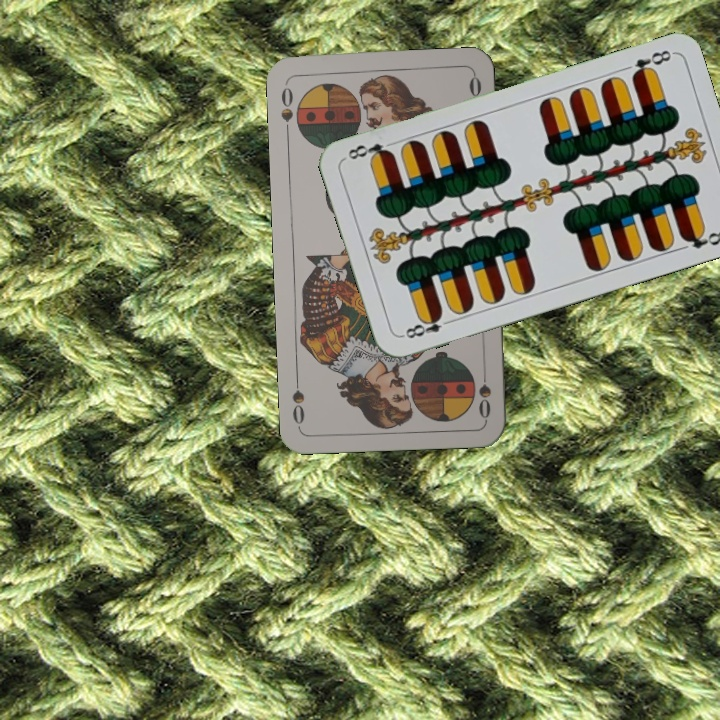E8: (398, 309, 456, 341), (628, 45, 674, 81)
SO: (475, 362, 494, 421), (277, 79, 296, 138)
